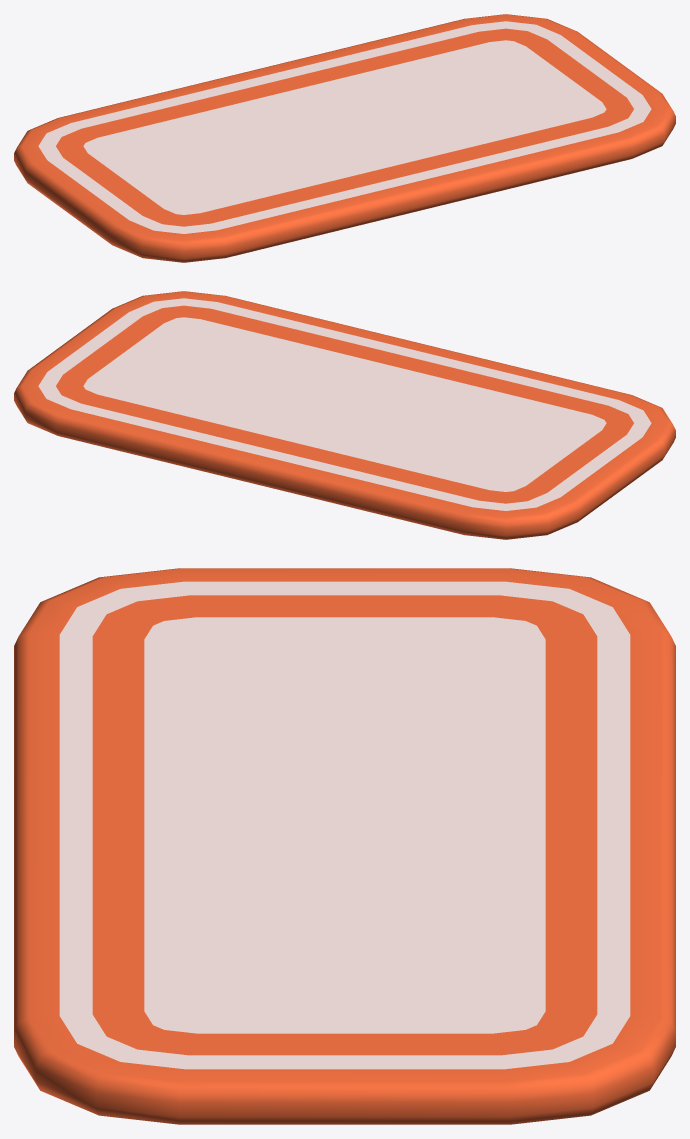
The model's file is City_10_Carpet_1.glb.
3 views of the same model, one above another, from view 1: azimuth 30°, elevation 25°; view 2: azimuth 150°, elevation 25°; view 3: azimuth 270°, elevation 25° (orthographic). The views are drawn at different scales.
Visible parts, largest first — view 1: City_10_Carpet_1; view 2: City_10_Carpet_1; view 3: City_10_Carpet_1.
Boxes of the visible parts, x1=… form: City_10_Carpet_1: x1=14, y1=14, x2=675, y2=262; City_10_Carpet_1: x1=14, y1=291, x2=675, y2=539; City_10_Carpet_1: x1=14, y1=568, x2=675, y2=1124.
Bounding box in the file's own units: 1.44 × 0.0538 × 0.7662.
1 material, 1 textured.
